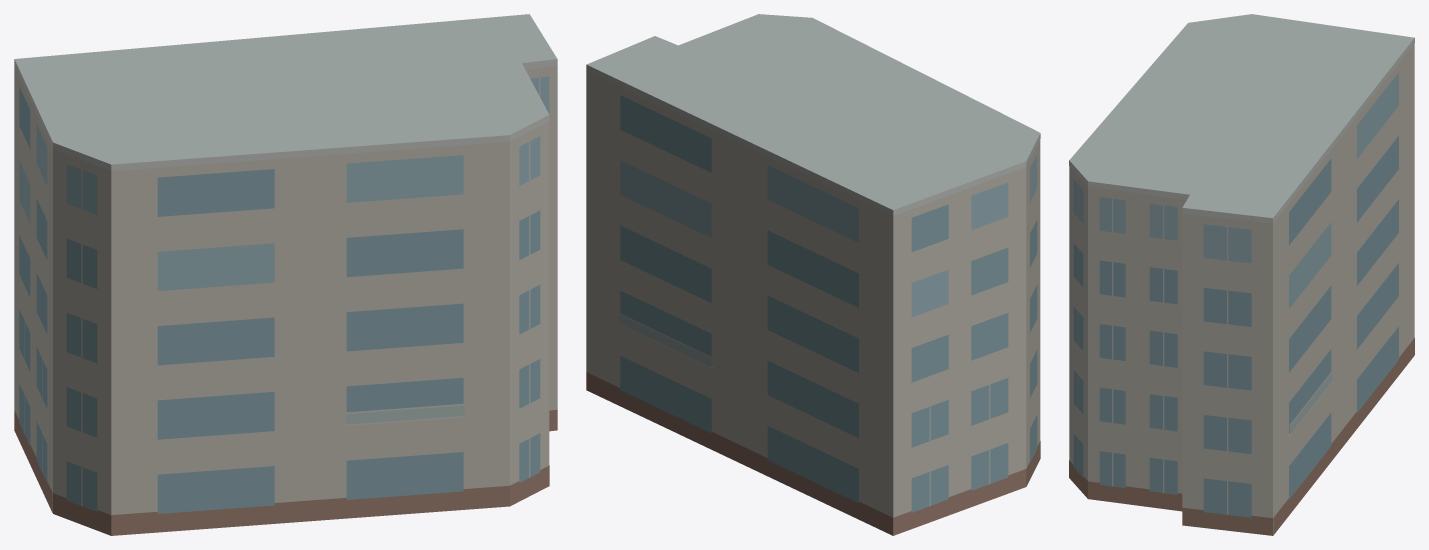
File: survey-upis-32987582.glb
3 views of the same model, side by side, from view 1: azimuth 30°, elevation 25°; view 2: azimuth 150°, elevation 25°; view 3: azimuth 270°, elevation 25° (orthographic). The views are drawn at different scales.
Parts seen in each view (by area): view 1: survey-upis-32987582.tmp; view 2: survey-upis-32987582.tmp; view 3: survey-upis-32987582.tmp.
Part boxes in pixels (x1=…): survey-upis-32987582.tmp: x1=14, y1=14, x2=557, y2=535; survey-upis-32987582.tmp: x1=586, y1=14, x2=1040, y2=535; survey-upis-32987582.tmp: x1=1069, y1=14, x2=1414, y2=535.
Size of the model in its own units: 18.89 by 13.7 by 13.51.
